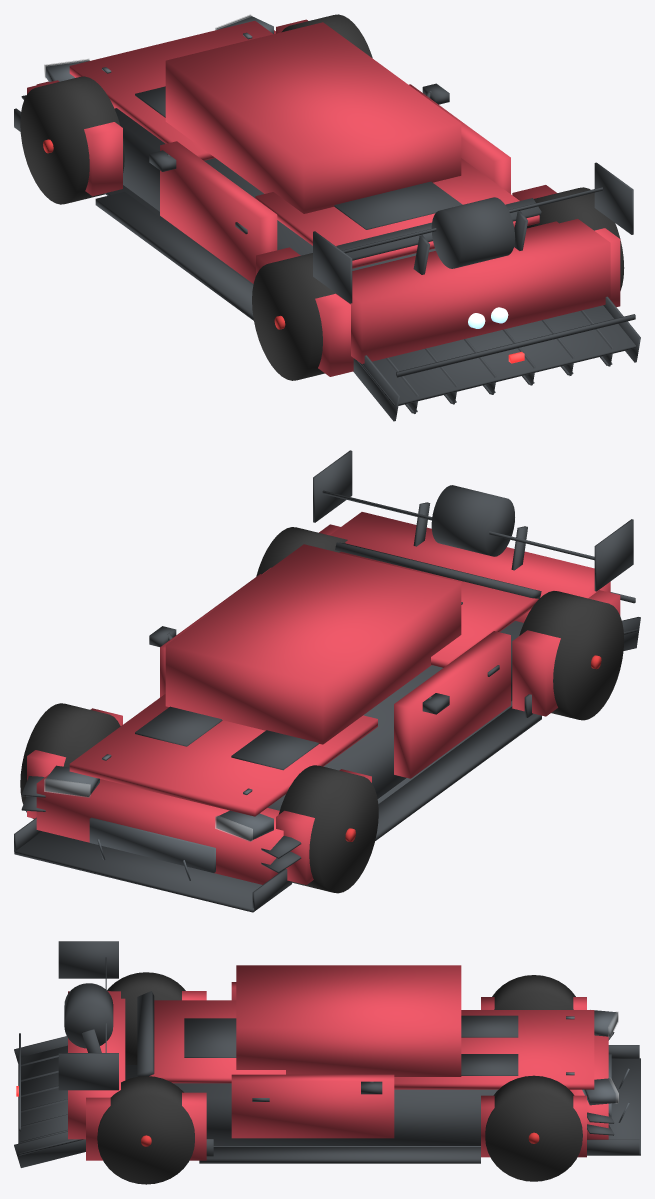
File: modular_gt3_apex.glb
3 views of the same model, one above another, from view 1: azimuth 30°, elevation 25°; view 2: azimuth 150°, elevation 25°; view 3: azimuth 270°, elevation 25° (orthographic). The views are drawn at different scales.
Parts seen in each view (by area): view 1: Greenhouse_Roof_Canopy, Rear_Bumper_Fascia, Diffuser_Curved_Ramp, Door_Main_Skin_Left, Tire_Slick_Rubber_FL, Tire_Slick_Rubber_RL, Bonnet_Hood_Skin, Dicky_Engine_Cover_Skin, Side_Skirts_Left, Wing_Main_Aerofoil, Chassis_Carbon_Monocoque, Dicky_Cooling_Louvers (+13 smaller); view 2: Greenhouse_Roof_Canopy, Bonnet_Hood_Skin, Front_Bumper_Fascia, Door_Main_Skin_Left, Tire_Slick_Rubber_RL, Tire_Slick_Rubber_FL, Rear_Bumper_Fascia, Front_Splitter_Tray, Side_Skirts_Left, Wing_Main_Aerofoil, Chassis_Carbon_Monocoque, Dicky_Engine_Cover_Skin (+16 smaller); view 3: Greenhouse_Roof_Canopy, Door_Main_Skin_Right, Bonnet_Hood_Skin, Tire_Slick_Rubber_FR, Tire_Slick_Rubber_RR, Chassis_Carbon_Monocoque, Dicky_Engine_Cover_Skin, Side_Skirts_Right, Diffuser_Curved_Ramp, Wing_Main_Aerofoil, Rear_Bumper_Fascia, Tire_Slick_Rubber_RL (+19 smaller).
Boxes of the visible parts, bbox=[...] form: Greenhouse_Roof_Canopy: bbox=[165, 22, 461, 213]; Rear_Bumper_Fascia: bbox=[336, 219, 610, 363]; Diffuser_Curved_Ramp: bbox=[357, 305, 635, 406]; Door_Main_Skin_Left: bbox=[160, 141, 277, 283]; Tire_Slick_Rubber_FL: bbox=[20, 76, 124, 204]; Tire_Slick_Rubber_RL: bbox=[252, 253, 335, 380]; Bonnet_Hood_Skin: bbox=[69, 21, 273, 160]; Dicky_Engine_Cover_Skin: bbox=[255, 158, 539, 268]; Side_Skirts_Left: bbox=[95, 191, 253, 320]; Wing_Main_Aerofoil: bbox=[431, 197, 514, 268]; Chassis_Carbon_Monocoque: bbox=[114, 108, 435, 270]; Dicky_Cooling_Louvers: bbox=[334, 181, 462, 229]; Greenhouse_Roof_Canopy: bbox=[165, 544, 461, 744]; Bonnet_Hood_Skin: bbox=[69, 694, 377, 816]; Front_Bumper_Fascia: bbox=[36, 774, 283, 884]; Door_Main_Skin_Left: bbox=[394, 631, 510, 778]; Tire_Slick_Rubber_RL: bbox=[519, 591, 624, 720]; Tire_Slick_Rubber_FL: bbox=[278, 765, 378, 893]; Rear_Bumper_Fascia: bbox=[330, 512, 610, 622]; Front_Splitter_Tray: bbox=[14, 831, 291, 912]; Side_Skirts_Left: bbox=[375, 706, 541, 840]; Wing_Main_Aerofoil: bbox=[431, 485, 514, 556]; Chassis_Carbon_Monocoque: bbox=[267, 621, 523, 810]; Dicky_Engine_Cover_Skin: bbox=[339, 551, 538, 667]; Greenhouse_Roof_Canopy: bbox=[236, 965, 461, 1076]; Door_Main_Skin_Right: bbox=[231, 1074, 394, 1138]; Bonnet_Hood_Skin: bbox=[394, 1010, 594, 1089]; Tire_Slick_Rubber_FR: bbox=[485, 1075, 582, 1181]; Tire_Slick_Rubber_RR: bbox=[97, 1076, 194, 1184]; Chassis_Carbon_Monocoque: bbox=[173, 1083, 497, 1145]; Dicky_Engine_Cover_Skin: bbox=[149, 1000, 285, 1083]; Side_Skirts_Right: bbox=[199, 1147, 480, 1163]; Diffuser_Curved_Ramp: bbox=[18, 1045, 83, 1155]; Wing_Main_Aerofoil: bbox=[64, 983, 113, 1048]; Rear_Bumper_Fascia: bbox=[68, 991, 125, 1139]; Tire_Slick_Rubber_RL: bbox=[107, 972, 185, 1064].
Size of the model in its own units: 2.09 by 0.99 by 4.37.
